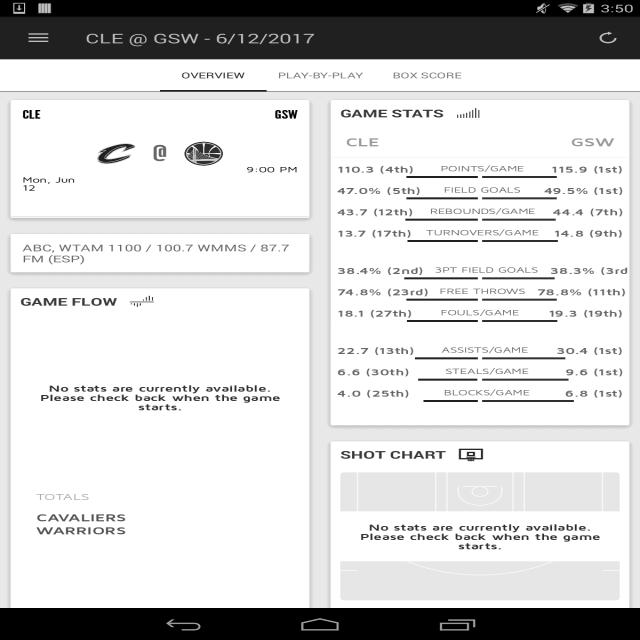ImageButton: (9, 17, 68, 59)
ImageView: (340, 472, 620, 600), (53, 199, 267, 216), (91, 138, 142, 170), (178, 138, 229, 170), (591, 27, 625, 49), (126, 292, 158, 312), (452, 103, 484, 123), (455, 444, 487, 464), (482, 378, 569, 381), (482, 400, 574, 402), (418, 378, 477, 381), (482, 358, 565, 360), (482, 240, 558, 242), (482, 176, 557, 178), (482, 198, 557, 200), (482, 298, 557, 300), (482, 320, 557, 322), (482, 218, 556, 220), (404, 278, 478, 280), (405, 218, 478, 220), (482, 278, 555, 280), (406, 176, 478, 178), (406, 198, 478, 200), (406, 298, 478, 300), (407, 240, 478, 242), (407, 320, 478, 322), (415, 358, 478, 360), (423, 400, 478, 402)
TextView: (12, 372, 308, 422), (340, 512, 620, 562), (12, 234, 308, 272), (36, 490, 284, 510), (85, 29, 315, 47), (157, 100, 298, 122), (22, 100, 158, 122), (36, 511, 230, 524), (36, 524, 230, 536), (22, 168, 92, 199), (341, 447, 446, 462), (340, 106, 444, 120), (21, 294, 118, 309), (426, 227, 539, 239), (246, 158, 298, 181), (332, 286, 439, 297), (430, 206, 535, 217), (526, 286, 631, 297), (434, 265, 538, 276), (332, 265, 434, 276), (332, 163, 425, 175), (332, 185, 432, 196), (332, 227, 423, 239), (332, 307, 423, 319), (537, 307, 628, 319), (539, 265, 638, 276), (332, 387, 421, 399), (540, 163, 628, 175), (533, 185, 628, 196), (332, 345, 426, 356), (542, 227, 628, 239), (444, 387, 530, 399), (332, 206, 424, 217), (441, 163, 524, 175), (332, 366, 420, 377), (440, 307, 520, 319), (439, 286, 526, 297), (542, 206, 628, 217), (442, 345, 528, 356), (445, 366, 529, 377), (545, 345, 628, 356), (142, 141, 178, 166), (554, 387, 628, 399), (277, 70, 363, 80), (444, 185, 521, 196), (554, 366, 628, 377), (392, 70, 461, 80), (230, 511, 284, 523), (230, 524, 284, 536), (571, 134, 614, 149), (181, 70, 245, 80), (346, 134, 380, 149), (12, 216, 308, 217)
